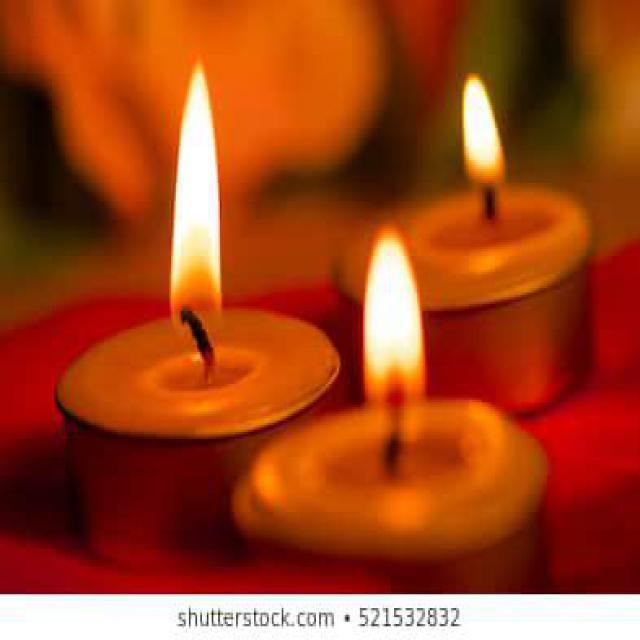Fire: (169, 66, 223, 357), (362, 228, 426, 442), (463, 72, 506, 200)
